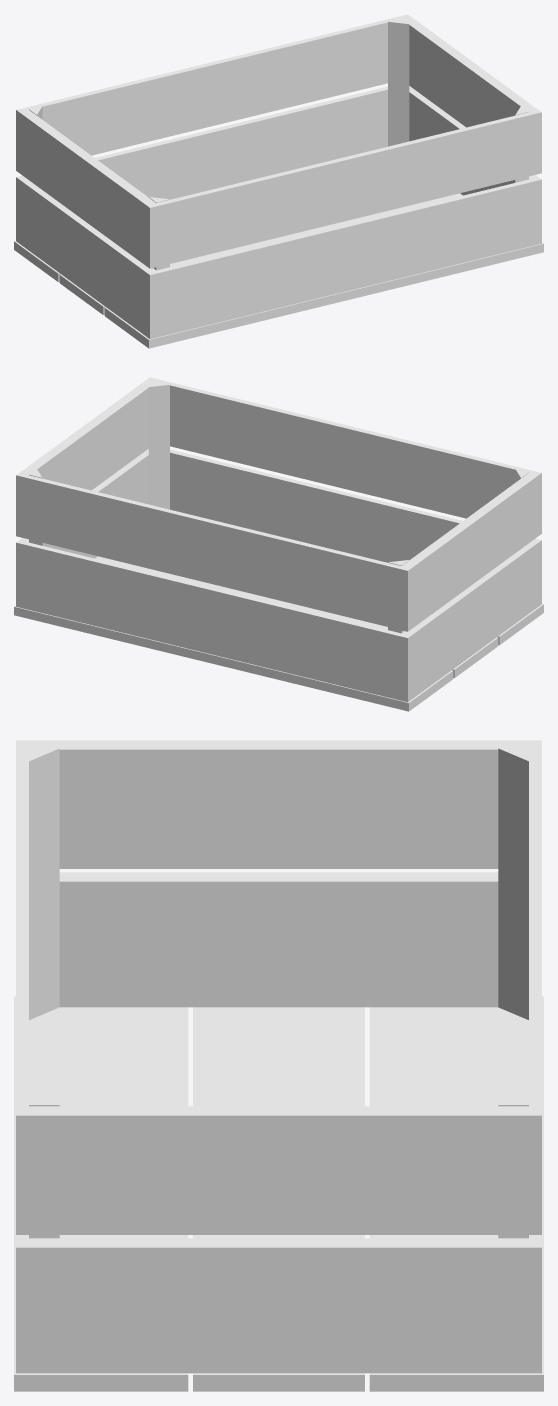
File: Prop_Wooden_Crate_02.glb
The picture shows the model from 3 angles, top to bottom: view 1: azimuth 30°, elevation 25°; view 2: azimuth 150°, elevation 25°; view 3: azimuth 270°, elevation 25°; orthographic projection. The views are drawn at different scales.
Parts seen in each view (by area): view 1: Prop_Wooden Crate_02; view 2: Prop_Wooden Crate_02; view 3: Prop_Wooden Crate_02.
Part boxes in pixels (x1,y1,x2,y2): Prop_Wooden Crate_02: (14,14,543,348); Prop_Wooden Crate_02: (14,377,543,711); Prop_Wooden Crate_02: (14,740,543,1391).
Size of the model in its own units: 0.7662 by 0.2605 by 0.4537.
Materials: 1 (1 with a texture image).
